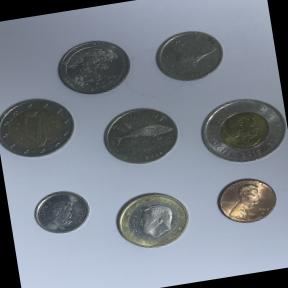1 Euro-B: (106, 182, 199, 258)
2 Euro-B: (0, 90, 82, 168)
Canada-10cent-B: (26, 184, 95, 243)
Canada-2Dollar-B: (190, 85, 288, 176)
Croatia-2Kune-B: (91, 96, 188, 178)
US-1cent-B: (209, 169, 286, 232)
US-25cent-B: (52, 32, 138, 101)
